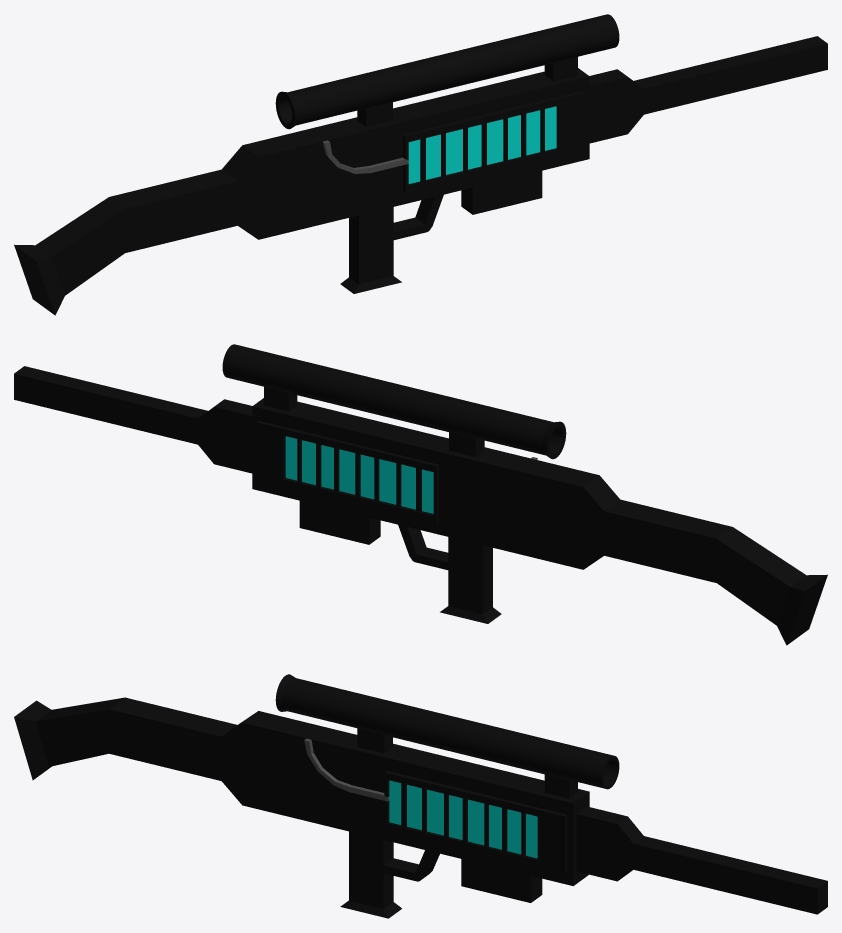
The model's file is SniperIK.fbx.
The picture shows the model from 3 angles, top to bottom: view 1: azimuth 30°, elevation 25°; view 2: azimuth 150°, elevation 25°; view 3: azimuth 330°, elevation 25°; orthographic projection.
Parts seen in each view (by area): view 1: Cube; view 2: Cube; view 3: Cube.
Boxes of the visible parts, left/top/right/bottom form: Cube: left=14, top=14, right=827, bottom=315; Cube: left=14, top=344, right=827, bottom=645; Cube: left=14, top=674, right=827, bottom=918.
Bounding box in the file's own units: 786 × 199 × 38.51.
